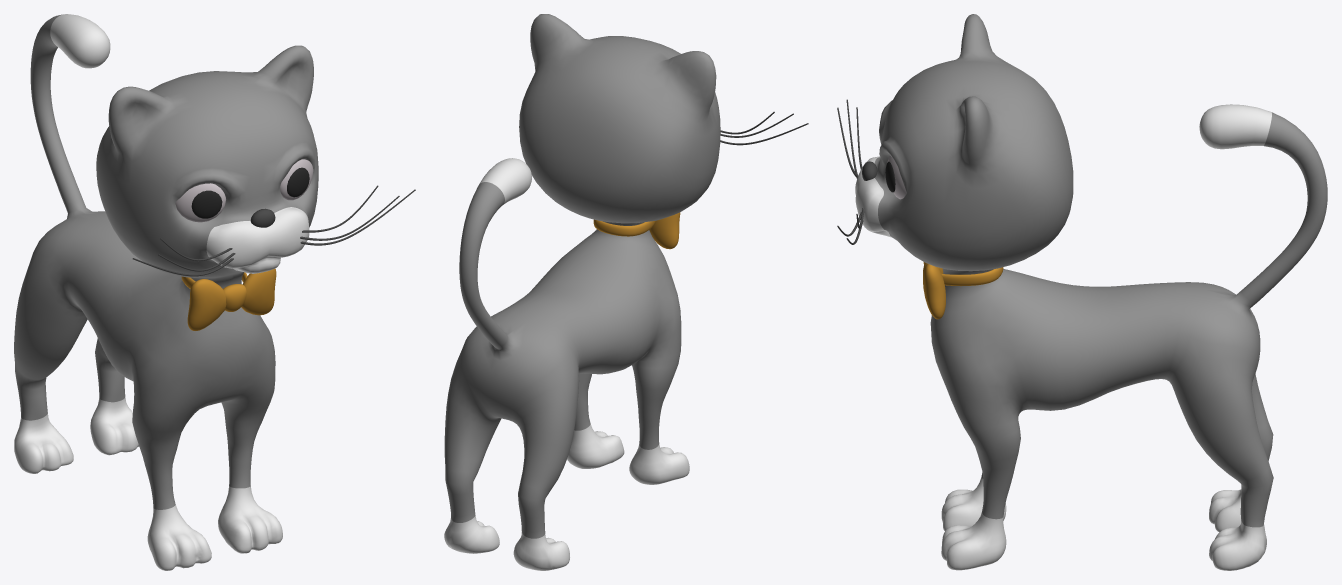
Rendered from cat.glb.
3 views of the same model, side by side, from view 1: azimuth 30°, elevation 25°; view 2: azimuth 150°, elevation 25°; view 3: azimuth 270°, elevation 25° (orthographic). The views are drawn at different scales.
Parts seen in each view (by area): view 1: Body, Bow, Whiskers, Eyes, Pupils; view 2: Body, Bow, Whiskers; view 3: Body, Bow, Whiskers.
Boxes of the visible parts, x1=… form: Body: x1=14, y1=14, x2=318, y2=570; Bow: x1=181, y1=268, x2=276, y2=330; Whiskers: x1=132, y1=185, x2=415, y2=276; Eyes: x1=175, y1=159, x2=313, y2=222; Pupils: x1=191, y1=167, x2=309, y2=218; Body: x1=444, y1=14, x2=720, y2=570; Bow: x1=593, y1=212, x2=680, y2=249; Whiskers: x1=720, y1=111, x2=808, y2=145; Body: x1=855, y1=14, x2=1327, y2=570; Bow: x1=923, y1=262, x2=1003, y2=319; Whiskers: x1=837, y1=99, x2=864, y2=244.
Bounding box in the file's own units: 0.777 × 1.26 × 1.16.
